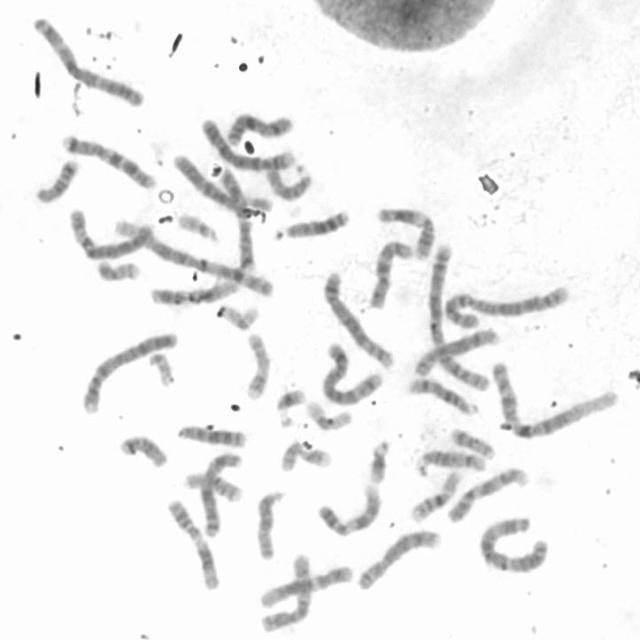A1: (110, 215, 280, 299), (487, 356, 620, 441)
A2: (423, 239, 493, 394), (441, 278, 573, 329)
A3: (27, 9, 147, 108), (474, 511, 552, 575)
B4: (78, 326, 180, 416), (198, 112, 298, 173)
B5: (321, 266, 396, 370), (317, 337, 386, 407)
C10: (257, 547, 315, 635), (364, 234, 415, 310)
C11: (163, 493, 222, 592), (374, 201, 439, 261)
C12: (254, 561, 354, 610), (147, 274, 241, 307)
C6: (171, 148, 275, 214), (65, 203, 154, 262)
C7: (57, 129, 159, 191), (215, 165, 259, 273)
C8: (353, 523, 444, 593), (409, 323, 501, 378)
C9: (442, 462, 530, 526), (314, 477, 384, 539)
D13: (271, 204, 351, 242), (174, 420, 250, 449)
D14: (404, 373, 481, 416), (412, 446, 487, 476)
D15: (251, 483, 288, 562), (260, 159, 314, 201)
E16: (407, 465, 465, 523), (178, 466, 244, 504)
E17: (240, 327, 273, 401), (275, 436, 334, 472)
E18: (31, 153, 81, 204), (115, 428, 171, 470)
F19: (303, 396, 355, 432), (213, 300, 261, 332)
F20: (446, 424, 497, 461), (92, 255, 143, 282)
G21: (272, 384, 307, 429), (364, 434, 393, 486)
G22: (174, 208, 222, 244), (144, 348, 176, 388)
X: (196, 448, 245, 538), (222, 107, 296, 147)
